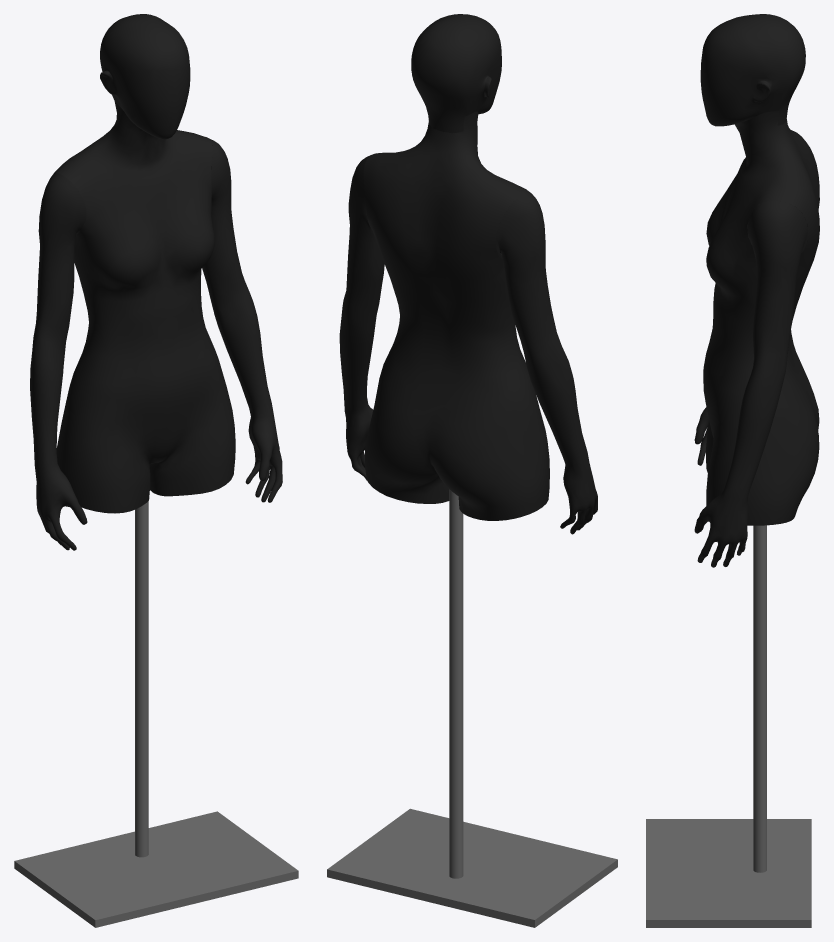
Rendered from Manikin 1.fbx.
3 views of the same model, side by side, from view 1: azimuth 30°, elevation 25°; view 2: azimuth 150°, elevation 25°; view 3: azimuth 270°, elevation 25° (orthographic). The views are drawn at different scales.
Parts seen in each view (by area): view 1: manikin 1; view 2: manikin 1; view 3: manikin 1.
Boxes of the visible parts, <box> form: manikin 1: <box>14,14,298,927</box>; manikin 1: <box>327,14,617,927</box>; manikin 1: <box>646,14,819,927</box>.
Size of the model in its own units: 52.21 by 177 by 32.44.
2 materials, 1 textured.
